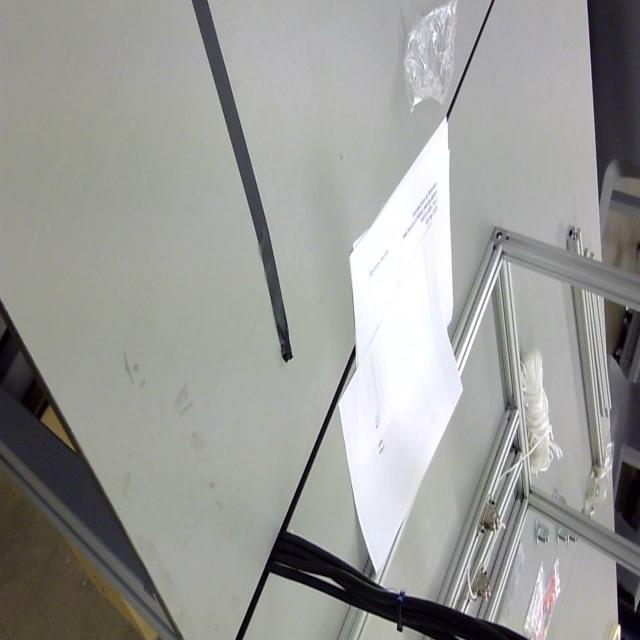tape: (180, 0, 307, 388)
